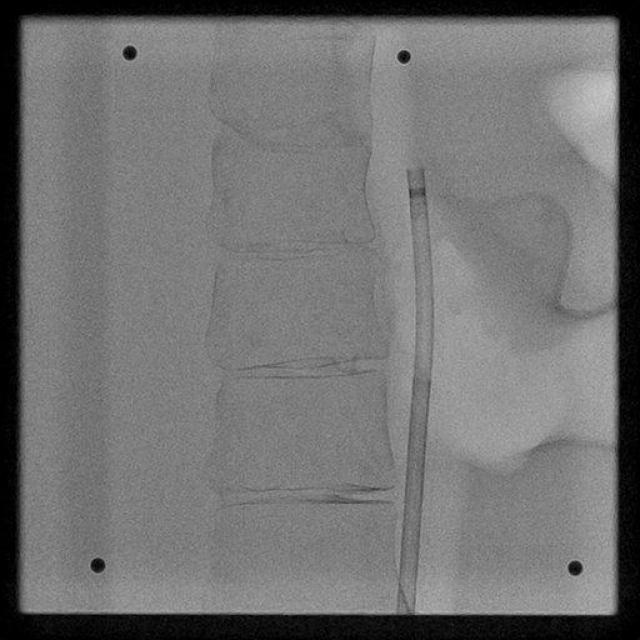bend: (414, 360, 432, 376)
entry: (396, 608, 415, 614)
marker: (408, 188, 426, 198)
tip: (406, 166, 426, 175)
